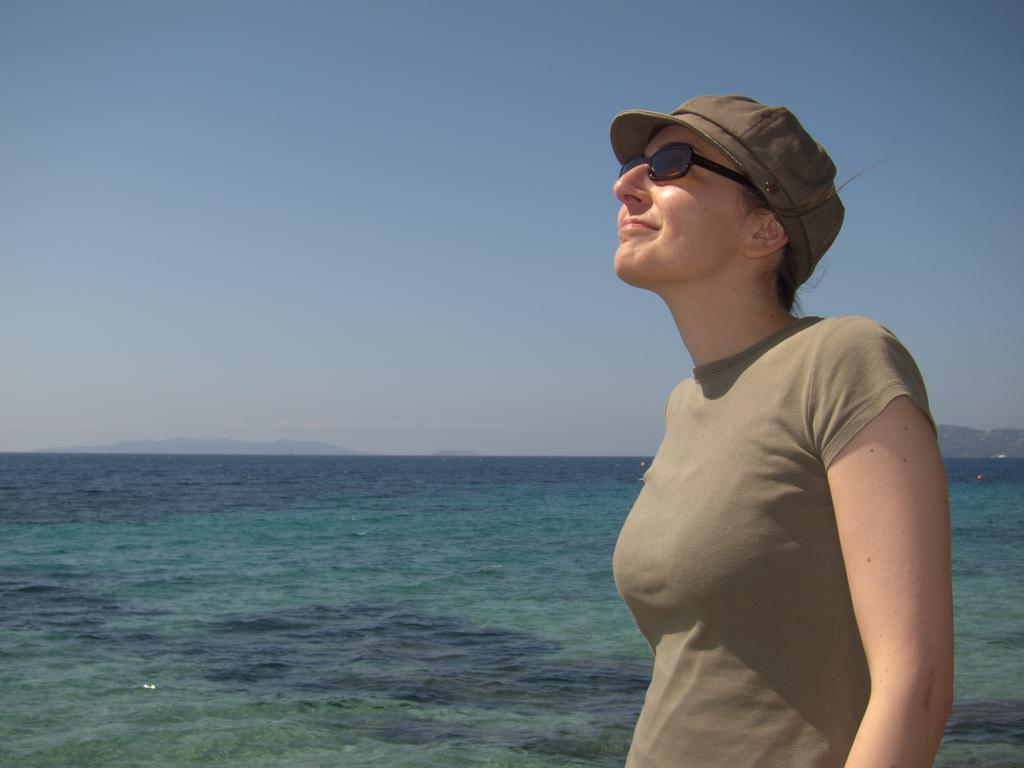Hat: (610, 92, 850, 294)
